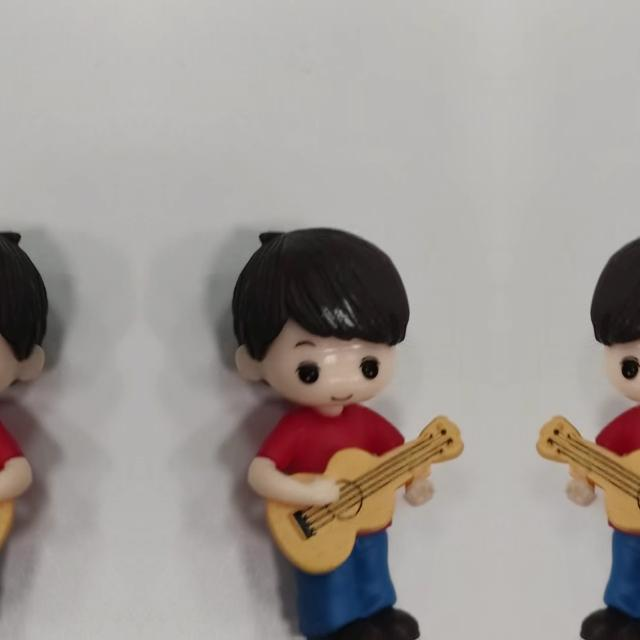man cloth: (247, 401, 415, 531), (585, 401, 640, 531), (0, 401, 33, 531)
man head: (220, 215, 410, 418), (0, 214, 59, 417), (590, 214, 640, 417)
trousers: (296, 532, 430, 638), (569, 531, 640, 638)
